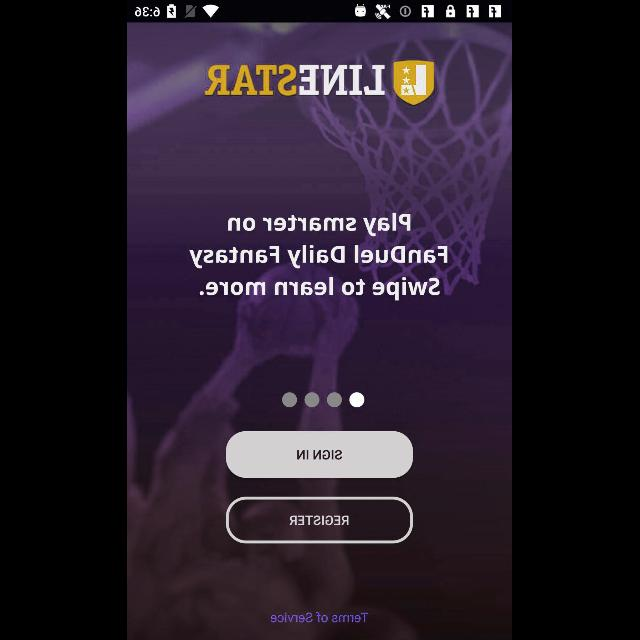backgroundimage: (128, 22, 512, 640)
image: (204, 60, 436, 106)
pageindicator: (282, 392, 366, 408)
text: (190, 212, 448, 302), (271, 611, 371, 625)
textbutton: (226, 496, 414, 544), (226, 432, 414, 478)
uppertaskbar: (128, 1, 512, 23)
